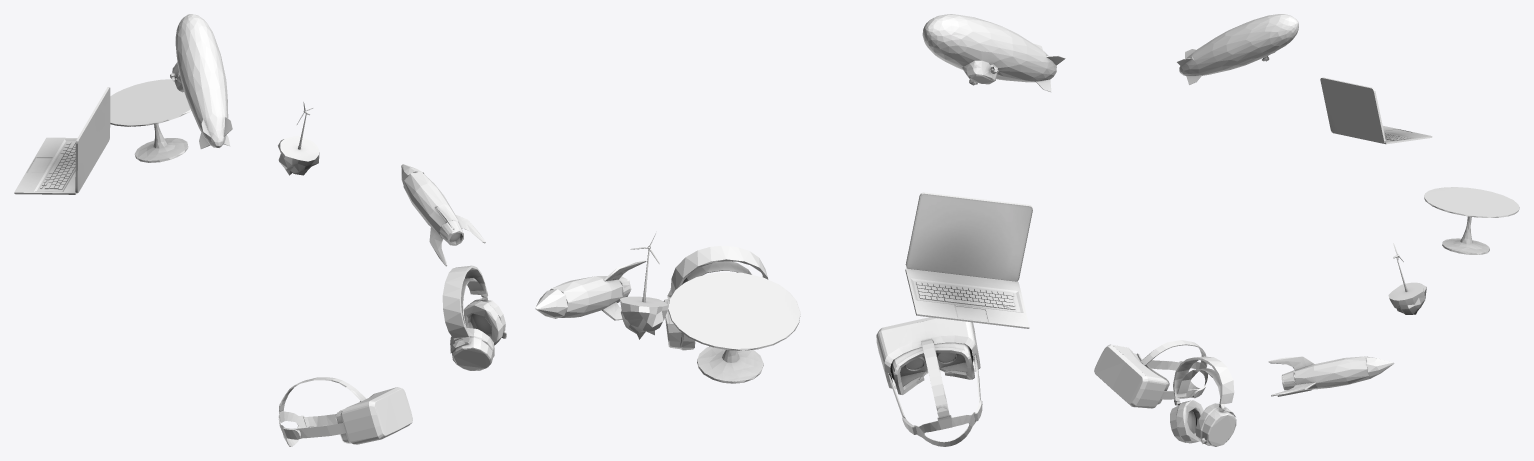
3 views of the same model, side by side, from view 1: azimuth 30°, elevation 25°; view 2: azimuth 150°, elevation 25°; view 3: azimuth 270°, elevation 25° (orthographic). The views are drawn at different scales.
Parts seen in each view (by area): view 1: Zeppelin, VR Headset, Headphones, Notebook, Table, Rocket.003, Roundcube.001; view 2: Notebook, Table, VR Headset, Zeppelin, Rocket.003, Headphones, Roundcube.001; view 3: Zeppelin, VR Headset, Headphones, Notebook, Table, Rocket.003, Roundcube.001.
Part boxes in pixels (box(x1,y1,x2,y2)): Zeppelin: box(170, 14, 232, 148); VR Headset: box(278, 377, 412, 446); Headphones: box(442, 265, 506, 370); Notebook: box(14, 87, 110, 194); Table: box(110, 79, 191, 162); Rocket.003: box(401, 164, 485, 266); Roundcube.001: box(278, 102, 319, 175); Notebook: box(905, 192, 1032, 328); Table: box(668, 272, 800, 383); VR Headset: box(876, 317, 982, 446); Zeppelin: box(922, 14, 1065, 91); Rocket.003: box(535, 259, 646, 320); Headphones: box(663, 245, 768, 350); Roundcube.001: box(620, 233, 668, 339); Zeppelin: box(1177, 14, 1298, 84); VR Headset: box(1094, 340, 1208, 408); Headphones: box(1170, 356, 1236, 446); Notebook: box(1320, 77, 1432, 144); Table: box(1424, 187, 1519, 254); Rocket.003: box(1268, 356, 1394, 396); Roundcube.001: box(1388, 243, 1426, 314).
Size of the model in its own units: 21.61 by 20.18 by 21.78.
7 materials, 7 textured.
